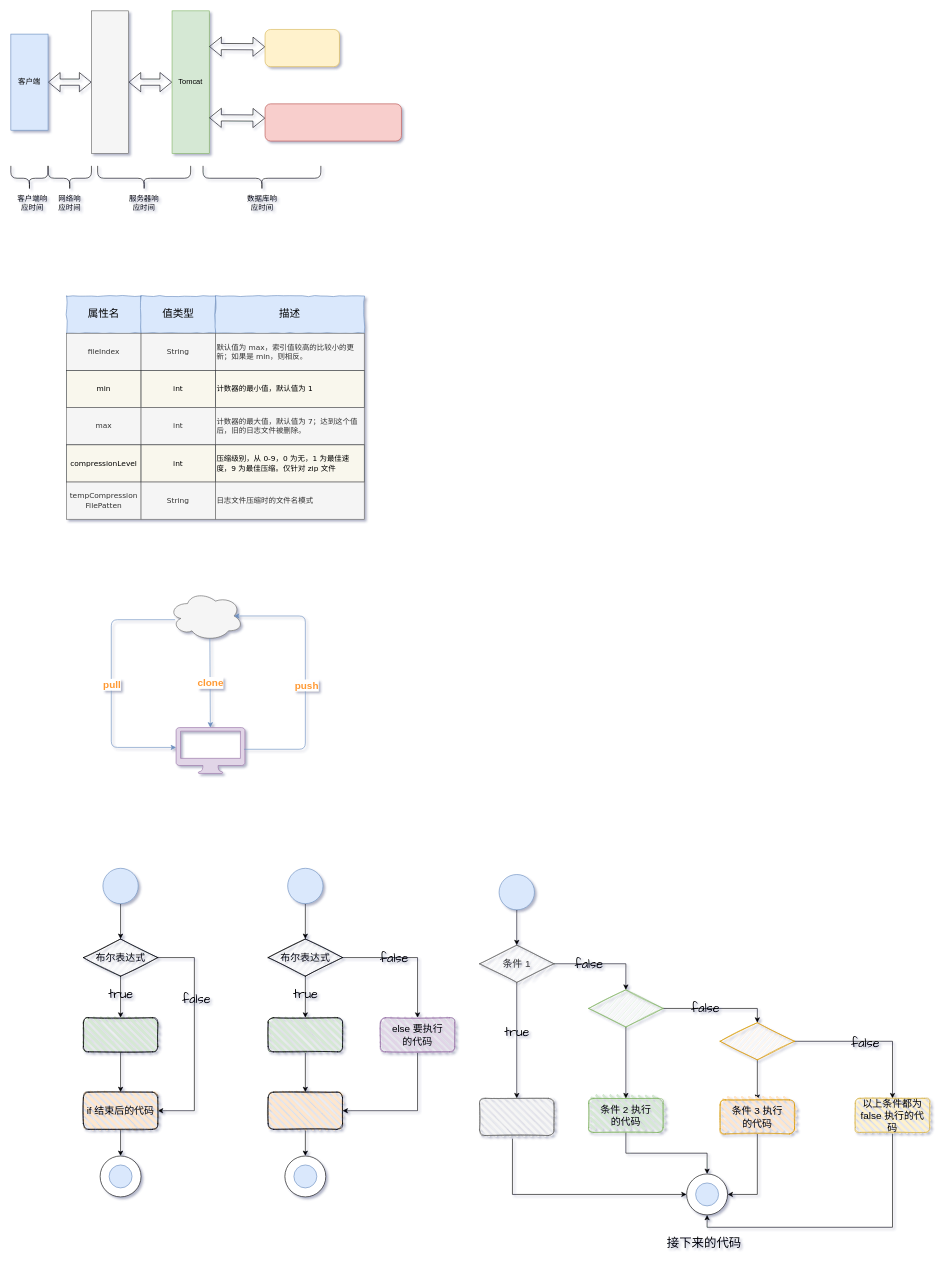
This 944x1265 diagram has some shape labels left out. Each missing label, with the box of its shape:
GitHub: (168, 591, 243, 641)
if 要执行的代码: (268, 1017, 343, 1052)
if-else 结束后的代码: (268, 1092, 343, 1129)
MySQL: (264, 103, 401, 141)
Nginx: (91, 10, 129, 153)
Redis: (264, 29, 339, 67)
条件 1 执行 的代码: (479, 1098, 554, 1136)
条件 2: (588, 989, 663, 1027)
条件 3: (720, 1022, 795, 1060)
要执行的代码: (83, 1017, 158, 1052)
